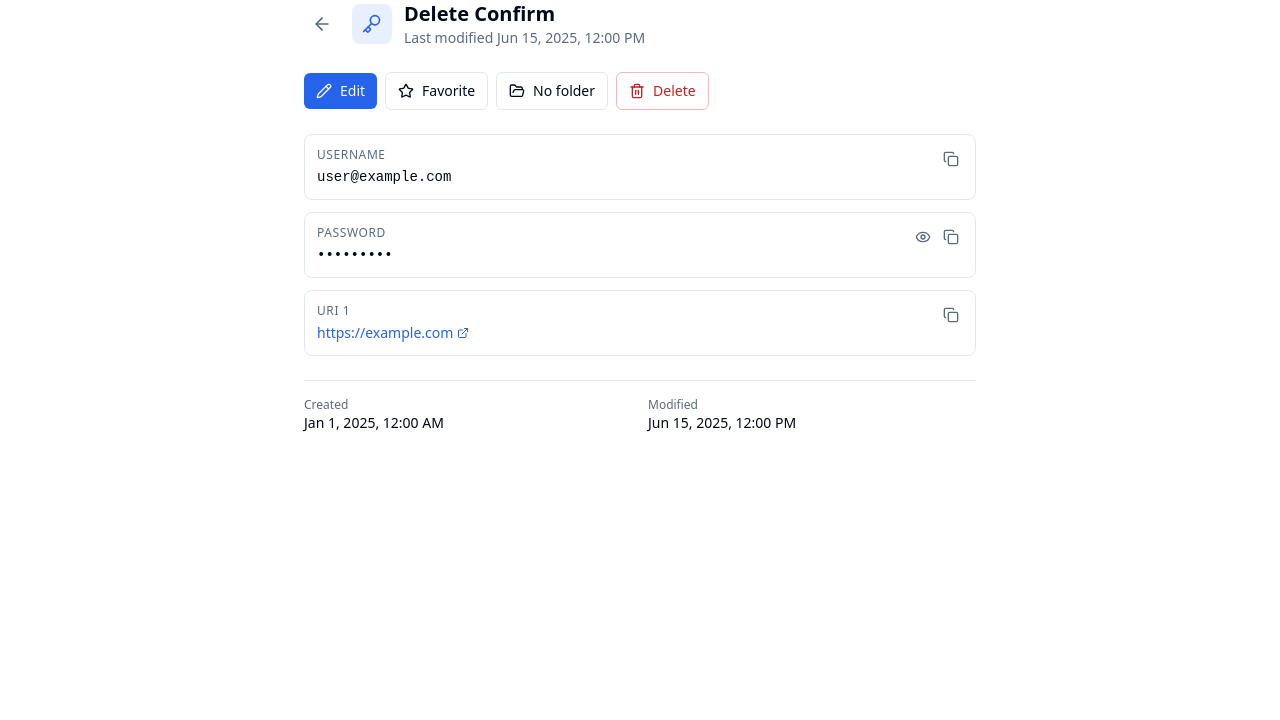
Scenario: VaultItemDetail › Delete flow › opens confirmation dialog on Delete click
Click the button "Delete": (662,91) [616,72,709,110]
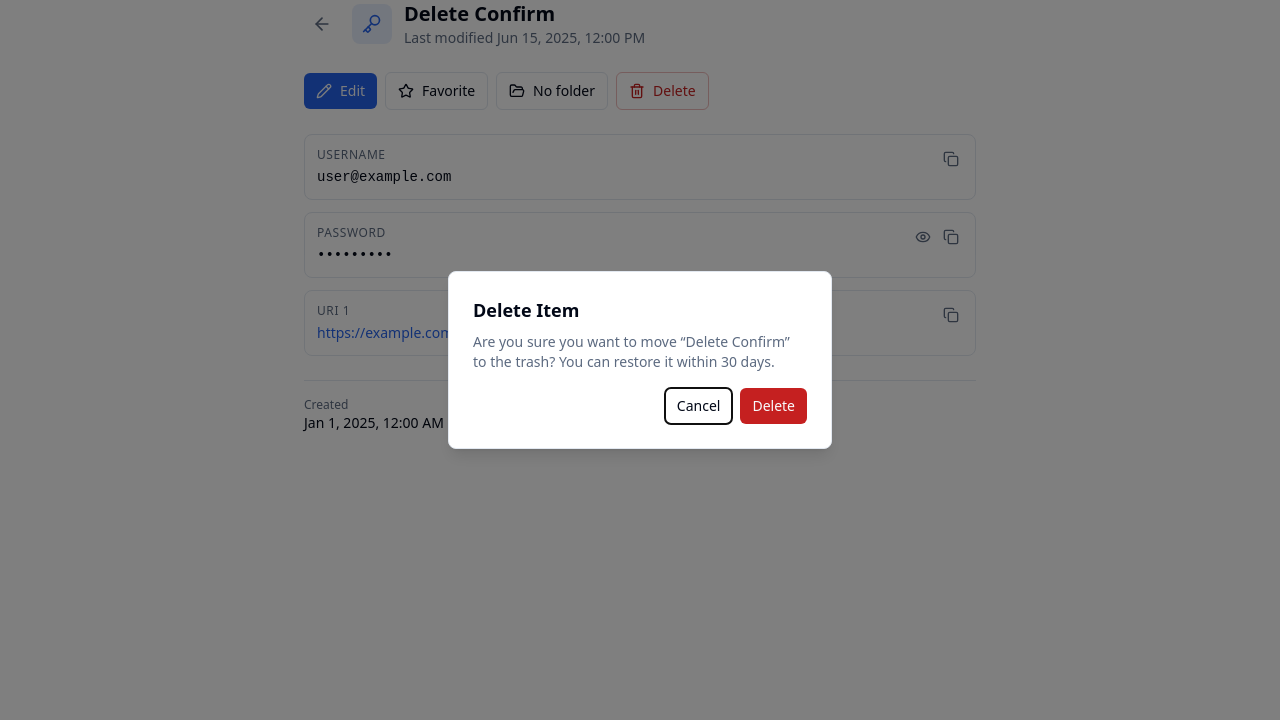
Check: the dialog is shown, box [448,271,832,449]
Check: the heading "Delete Item" is shown, box [473,298,579,322]
